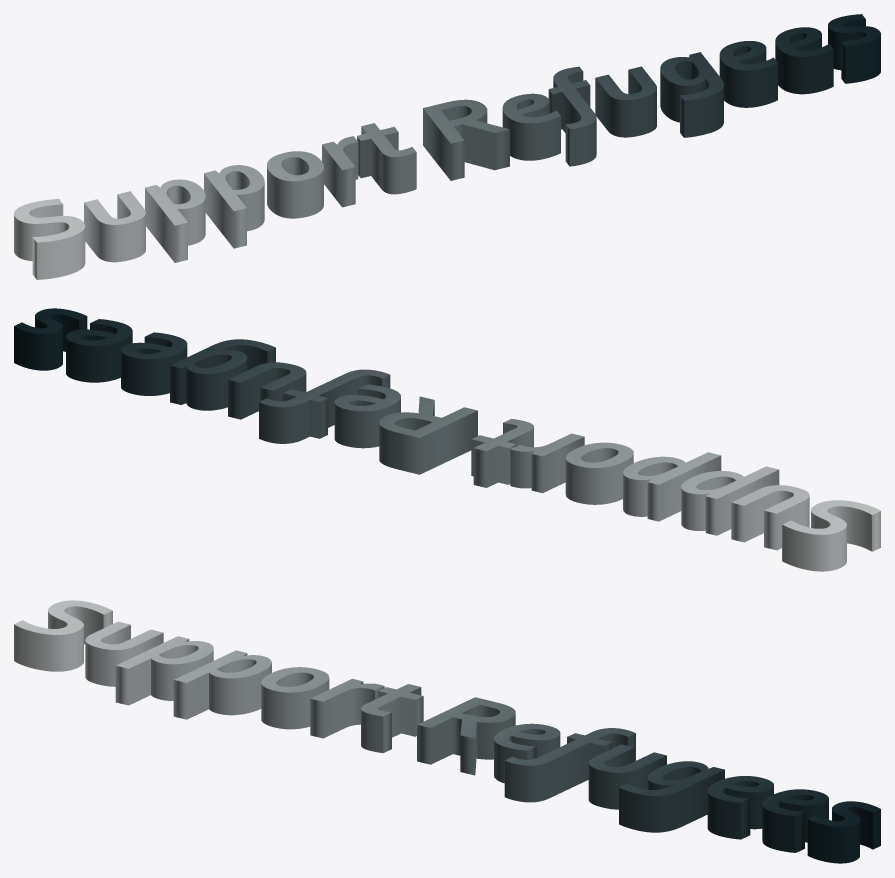
The picture shows the model from 3 angles, top to bottom: view 1: azimuth 30°, elevation 25°; view 2: azimuth 150°, elevation 25°; view 3: azimuth 330°, elevation 25°; orthographic projection.
Visible parts, largest first — view 1: 文字.018; view 2: 文字.018; view 3: 文字.018.
Part boxes in pixels (box(x1,y1,x2,y2)): 文字.018: box(14, 14, 880, 279); 文字.018: box(14, 308, 880, 571); 文字.018: box(14, 600, 880, 863).
Bounding box in the file's own units: 6.22 × 0.26 × 0.8045.
Materials: 1 (1 with a texture image).
